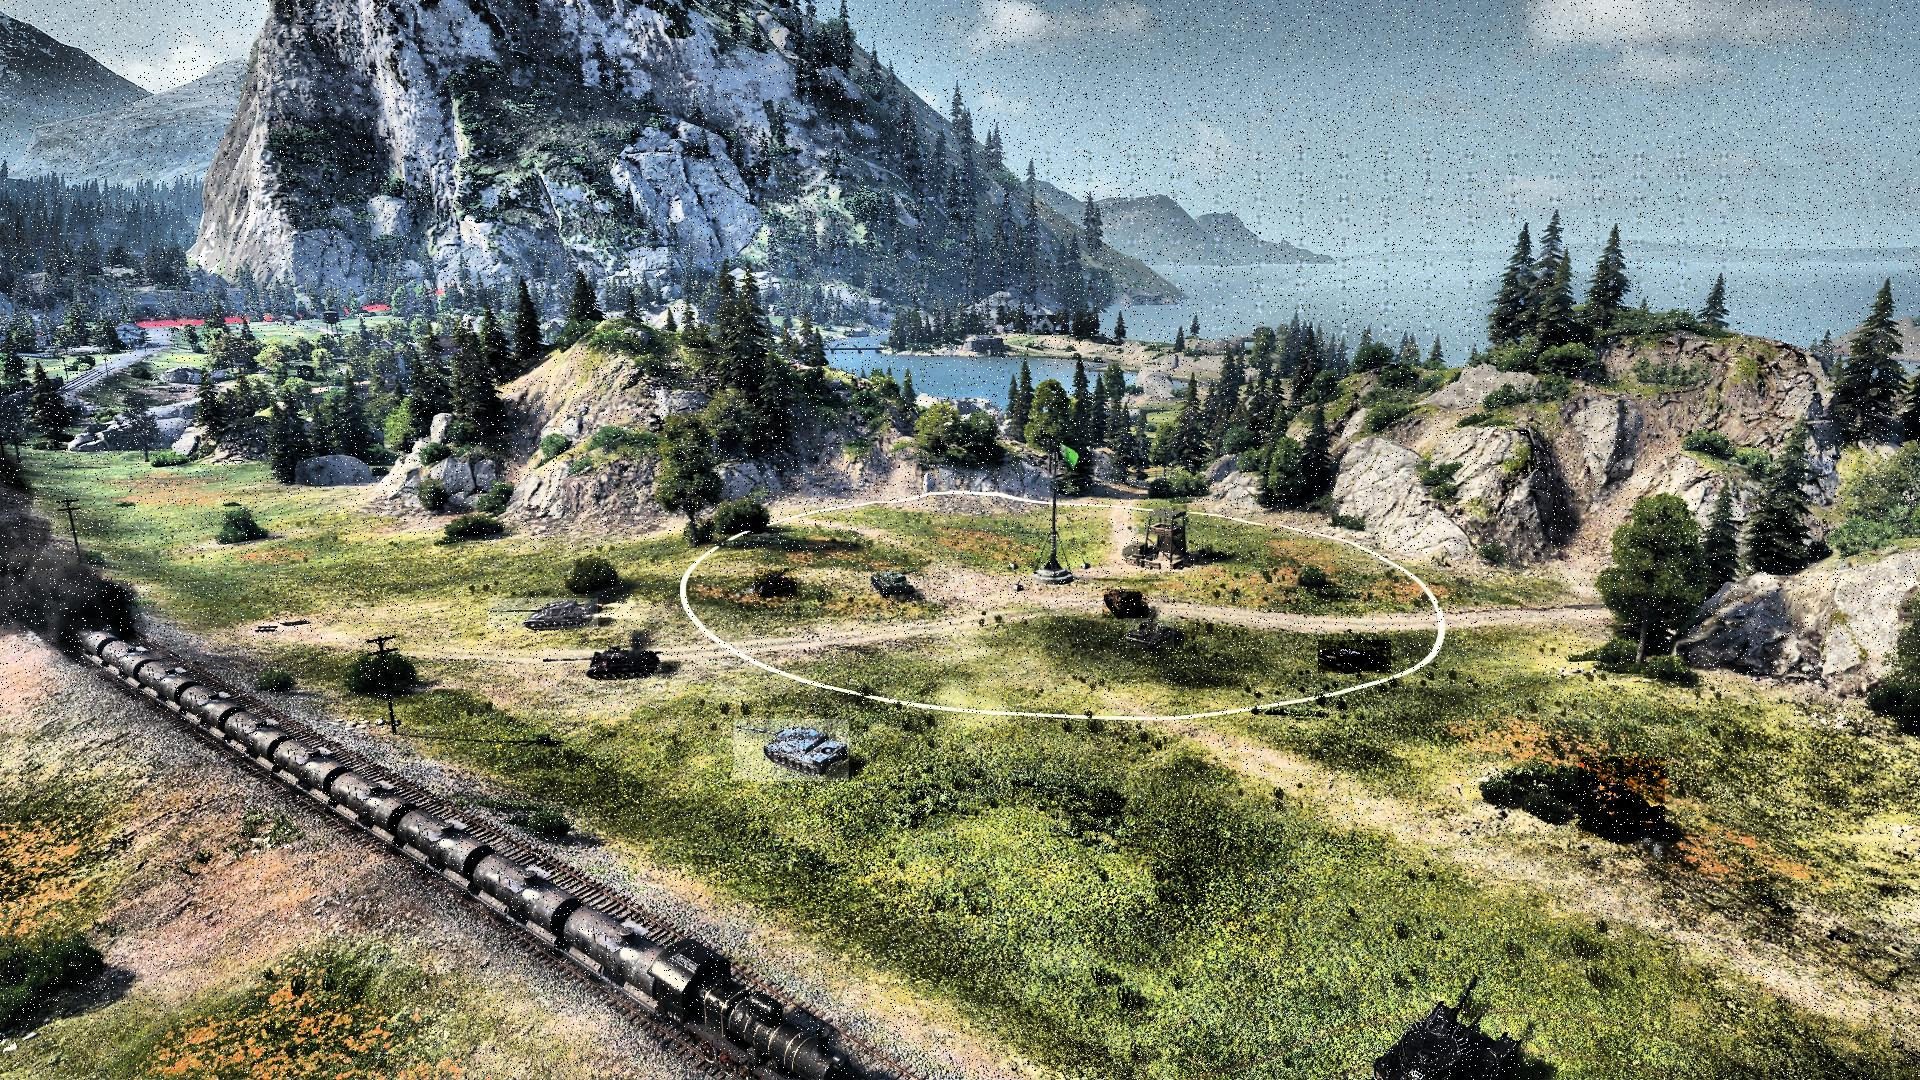military-vehicle: (733, 720, 849, 782), (1578, 757, 1665, 839), (543, 646, 663, 680), (489, 597, 599, 629), (1319, 641, 1391, 674), (1126, 613, 1174, 649), (1102, 589, 1149, 618), (756, 568, 798, 597), (873, 568, 915, 597)
